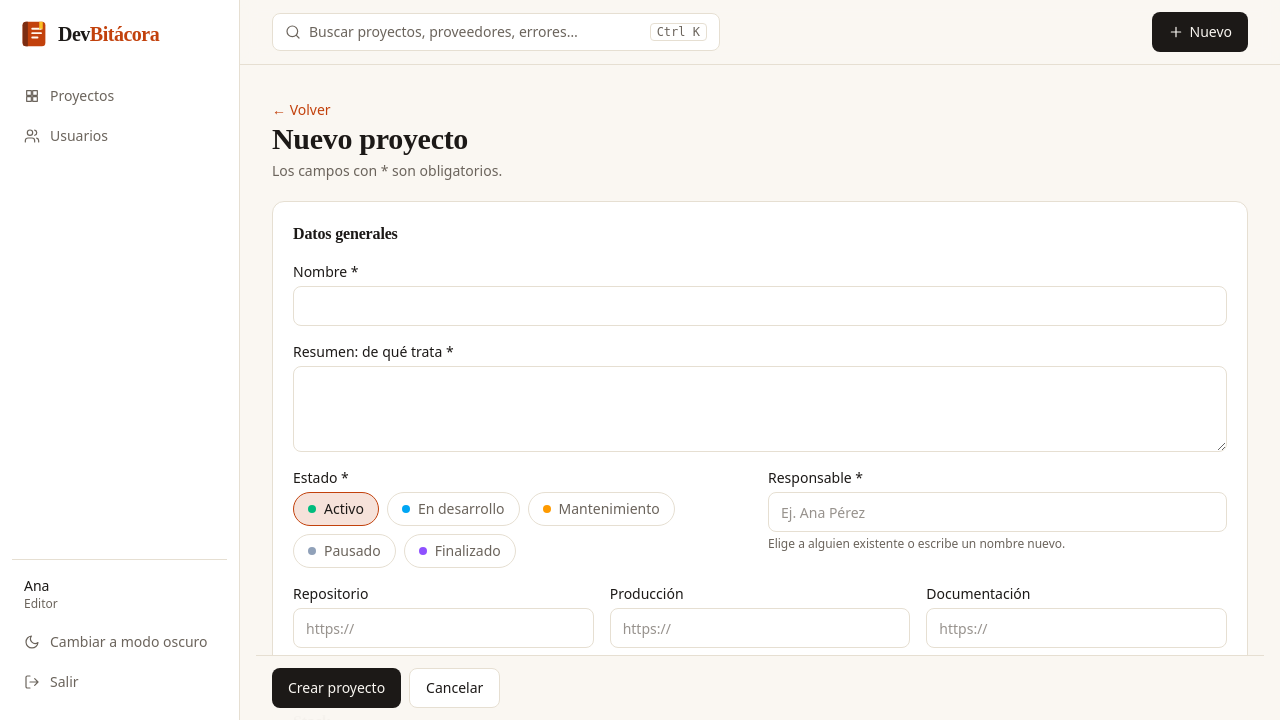
Scenario: reconfirmación › salir del formulario con cambios pide confirmar; sin cambios sale directo
Sin cambios: "Cancelar" navega al listado sin preguntar.
Step 1. Click the link "Cancelar" → (455, 688), box [409,668,500,708]
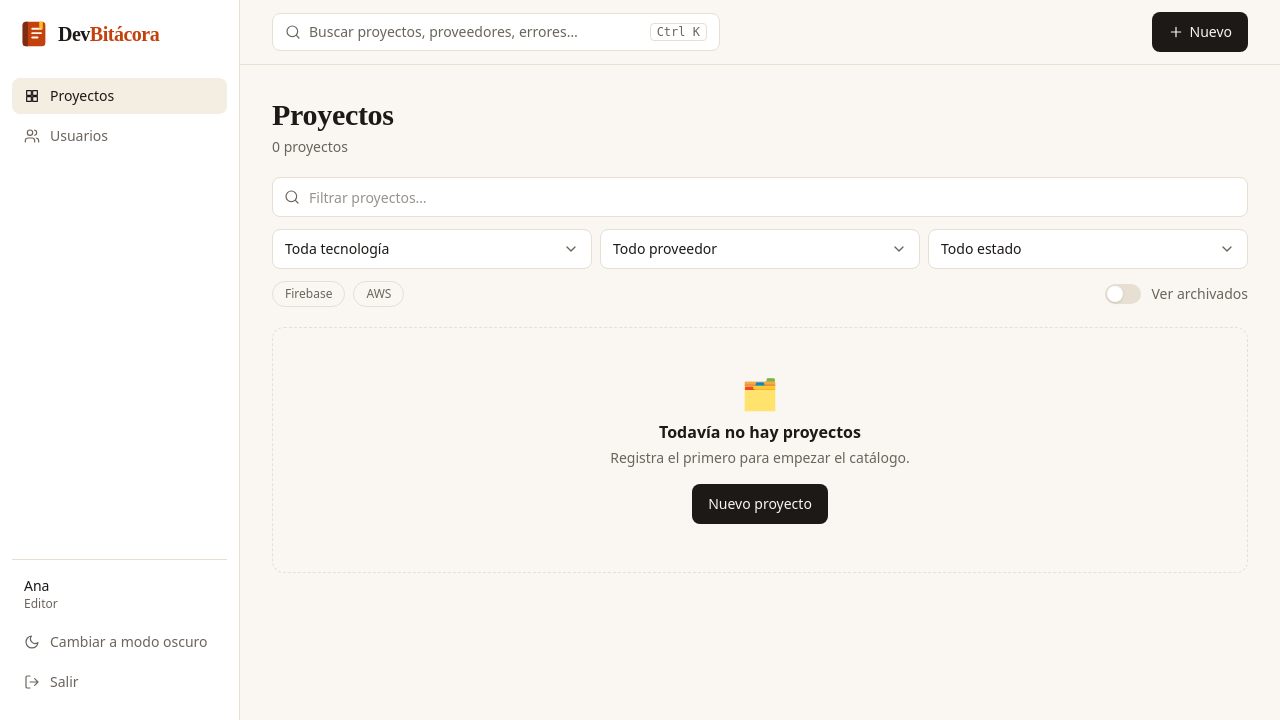
Expected: the text "Descartar cambios" is not shown
Expected: the heading "Proyectos" is shown, [272,97,394,133]
Con cambios: pregunta primero.
Step 2. Click the link "Nuevo" → (1200, 32), box [1152,12,1248,52]
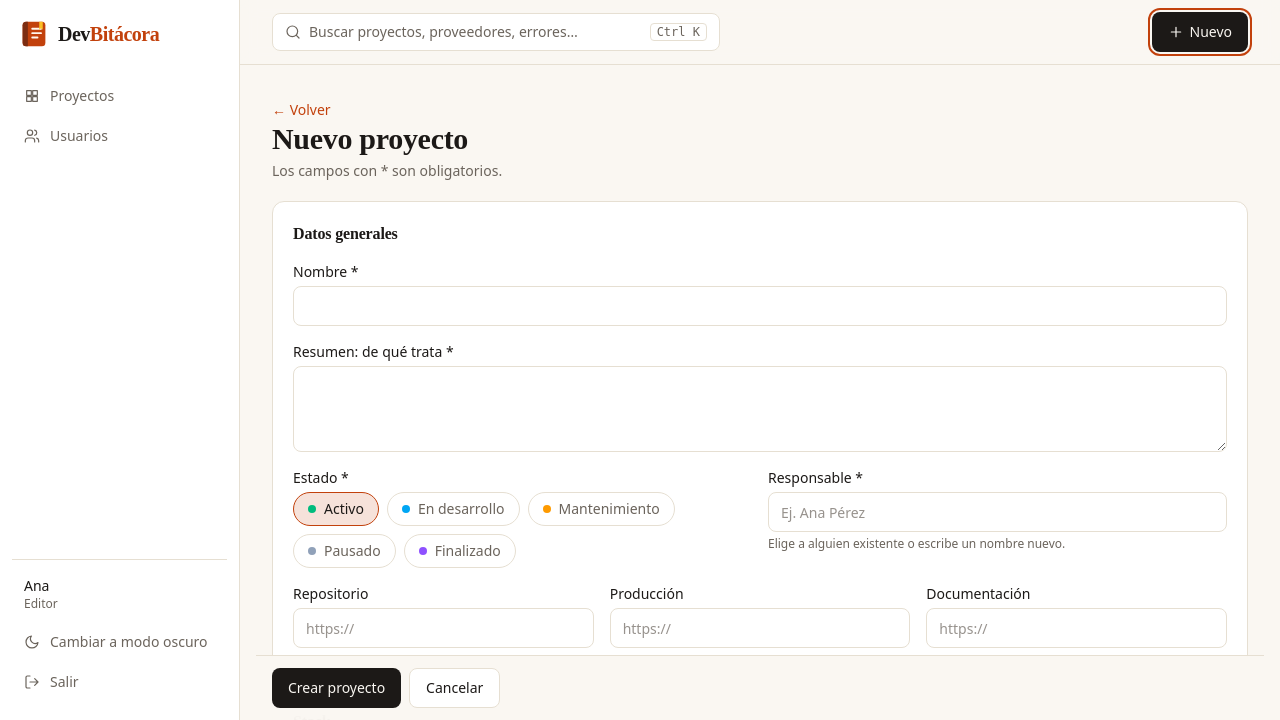
Step 3. Type "Algo" into the field labelled "Nombre *" → (760, 306), box [293,286,1227,326]
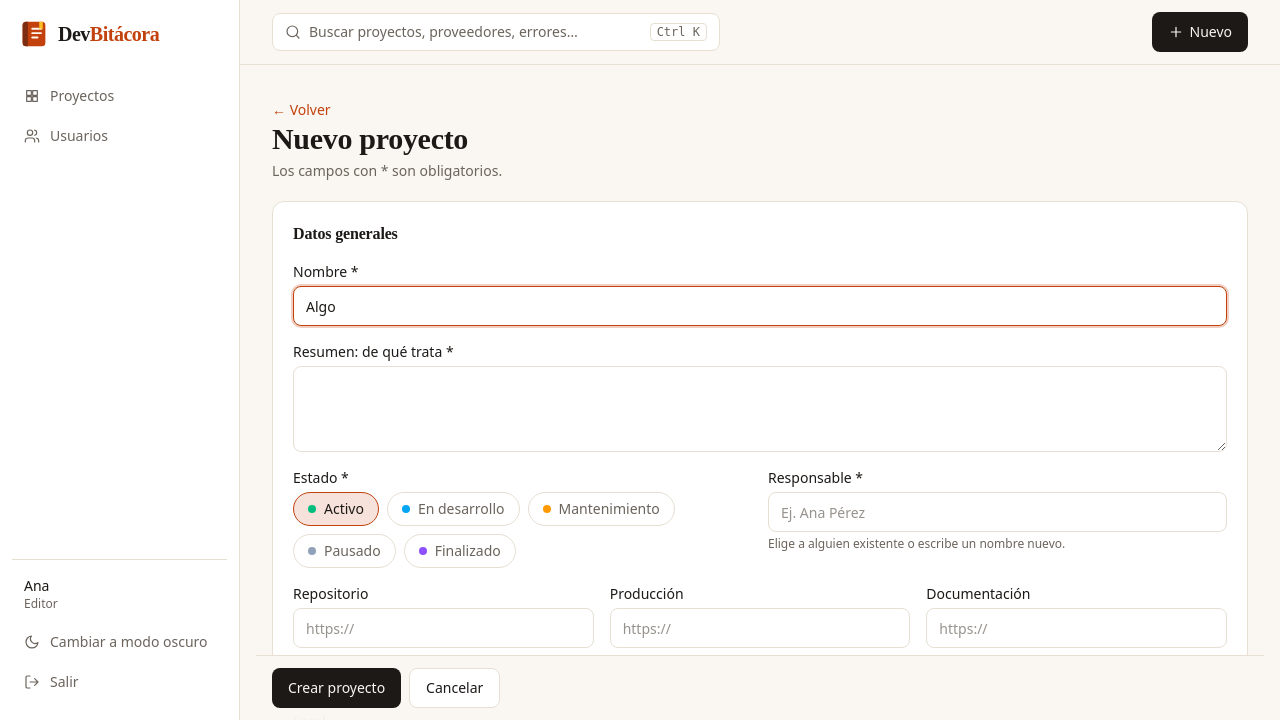
Step 4. Click the link "Cancelar" → (455, 688), box [409,668,500,708]
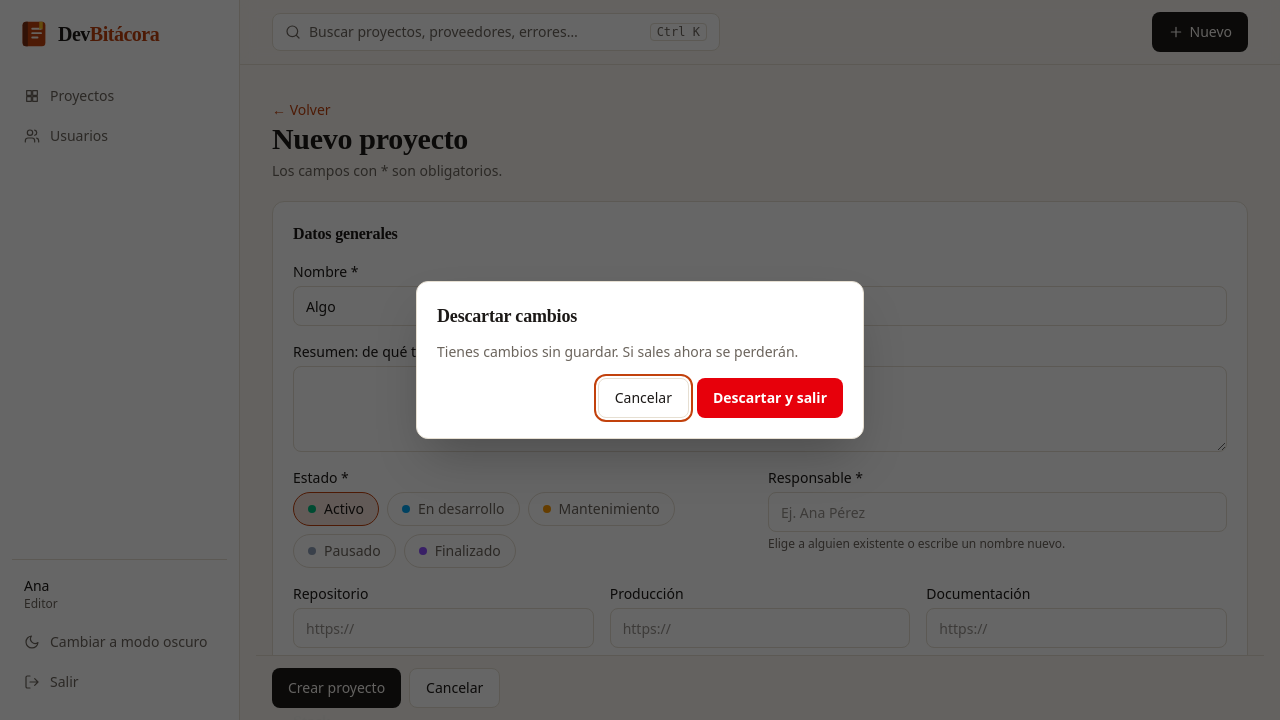
Expected: the text "Tienes cambios sin guardar. Si sales ahora se perderán." is shown, [437,342,843,362]
Step 5. Click the button "Descartar y salir" → (770, 398), box [697,378,843,418]
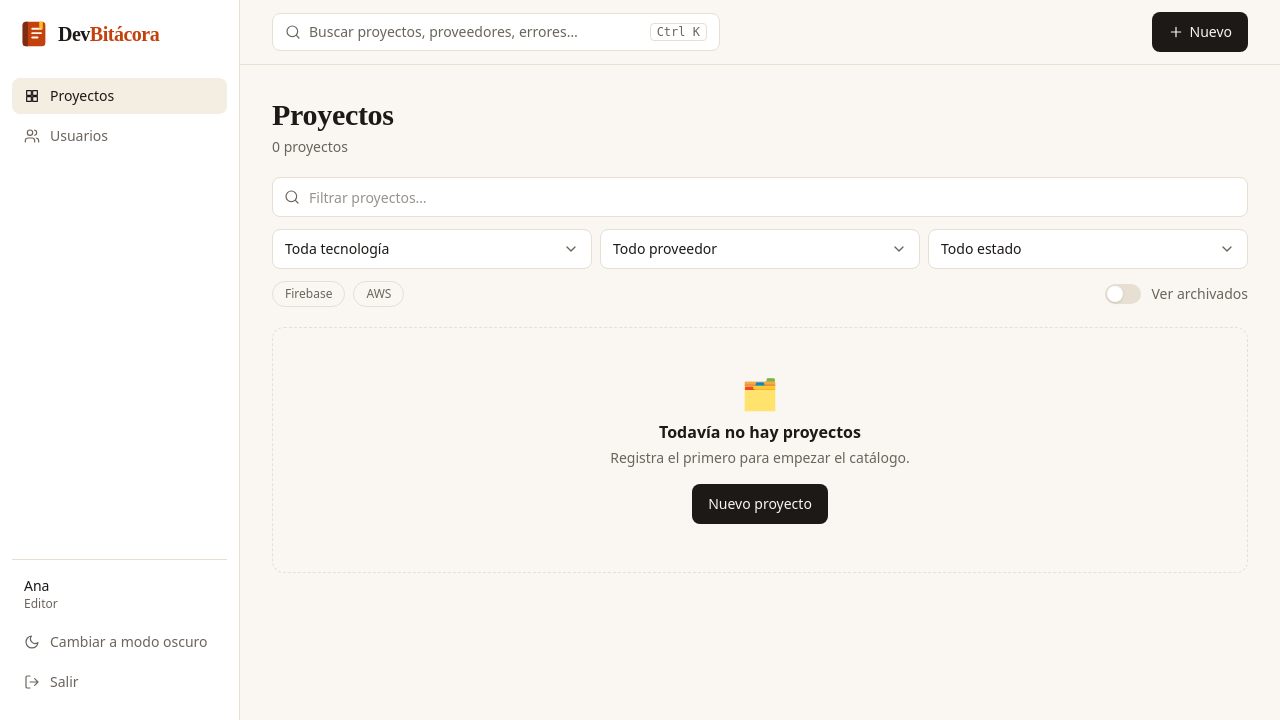
Expected: the heading "Proyectos" is shown, [272,97,394,133]
